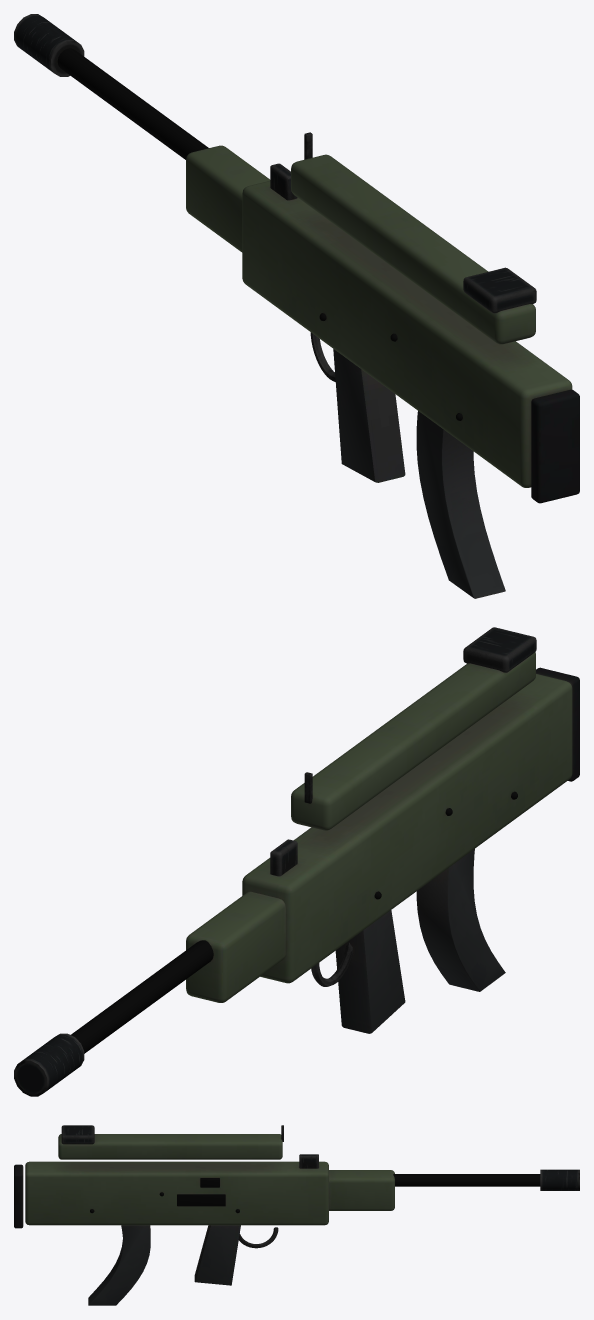
Rendered from famas.glb.
The picture shows the model from 3 angles, top to bottom: view 1: azimuth 30°, elevation 25°; view 2: azimuth 150°, elevation 25°; view 3: azimuth 270°, elevation 25°; orthographic projection. The views are drawn at different scales.
Parts seen in each view (by area): view 1: body_furniture, body_metal, mag_furniture, body_receiver; view 2: body_furniture, mag_furniture, body_receiver, body_metal; view 3: body_furniture, body_metal, mag_furniture, body_receiver.
Part boxes in pixels (box(x1,y1,x2,y2)): body_furniture: box(186, 145, 572, 487); body_metal: box(57, 48, 579, 503); mag_furniture: box(416, 411, 505, 598); body_receiver: box(14, 14, 536, 381); body_furniture: box(186, 652, 572, 1033); mag_furniture: box(416, 849, 505, 991); body_receiver: box(14, 627, 536, 1096); body_metal: box(71, 667, 579, 1053); body_furniture: box(25, 1134, 394, 1285); body_metal: box(14, 1164, 540, 1228); mag_furniture: box(88, 1225, 150, 1305); body_receiver: box(61, 1125, 579, 1248).
Size of the model in its own units: 0.0575 by 0.294 by 0.857.
Materials: 4 (4 with a texture image).
